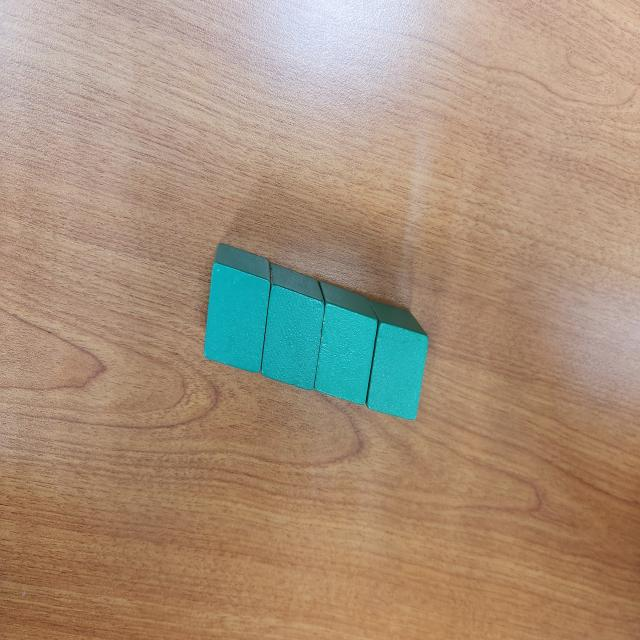green: (205, 244, 272, 374), (313, 280, 378, 406), (262, 264, 324, 391), (364, 299, 428, 422)
